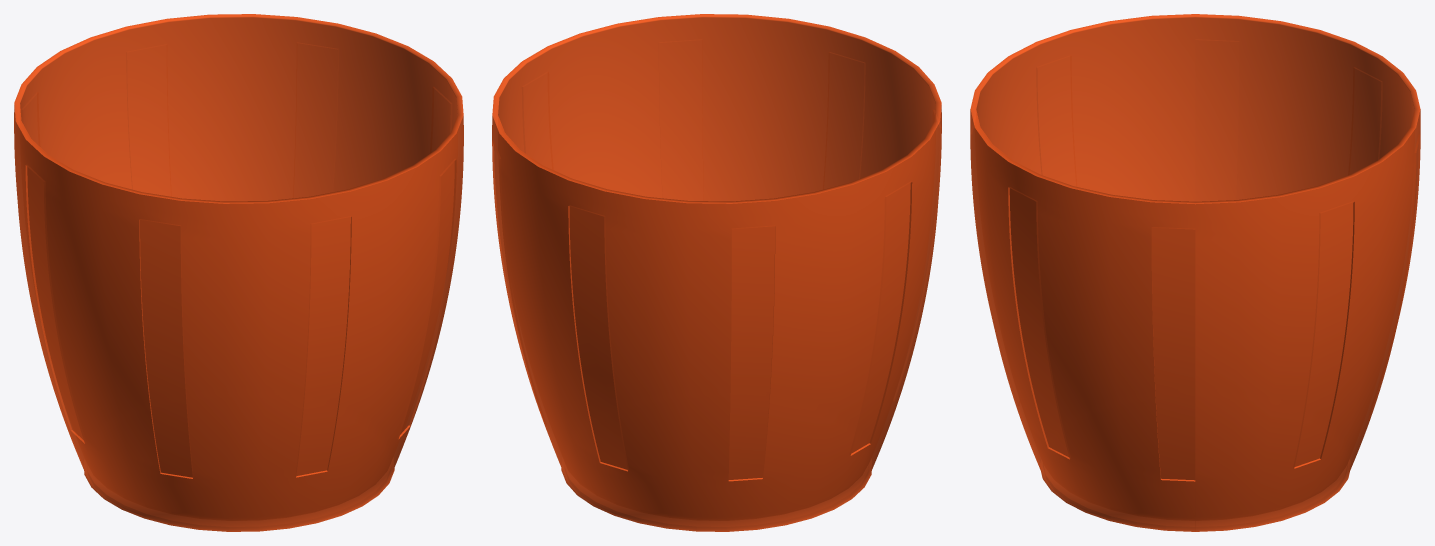
File: cup.FBX
The picture shows the model from 3 angles, left to right: view 1: azimuth 30°, elevation 25°; view 2: azimuth 150°, elevation 25°; view 3: azimuth 270°, elevation 25°; orthographic projection.
Visible parts, largest first — view 1: Cup; view 2: Cup; view 3: Cup.
Part boxes in pixels (bbox=[...]): Cup: bbox=[14, 14, 463, 531]; Cup: bbox=[492, 14, 941, 531]; Cup: bbox=[970, 14, 1420, 531].
Size of the model in its own units: 57.17 by 50 by 57.17.
